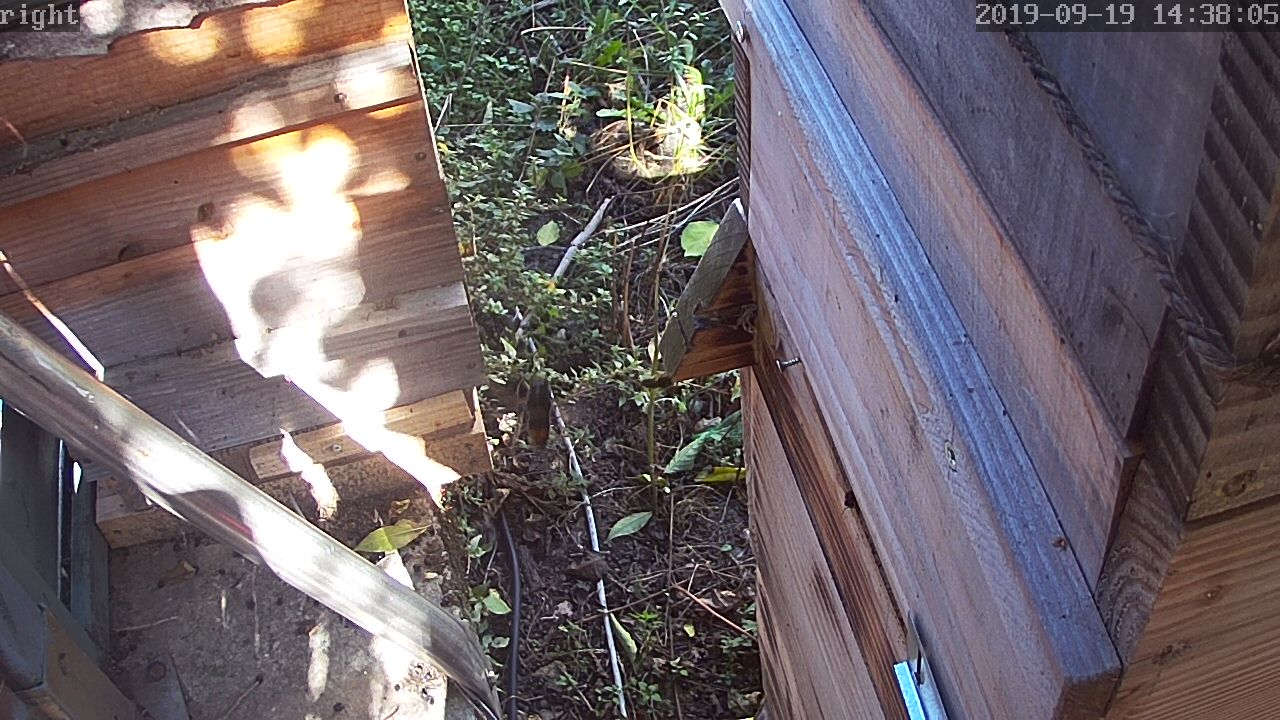hornet: (35, 28, 1248, 720)
